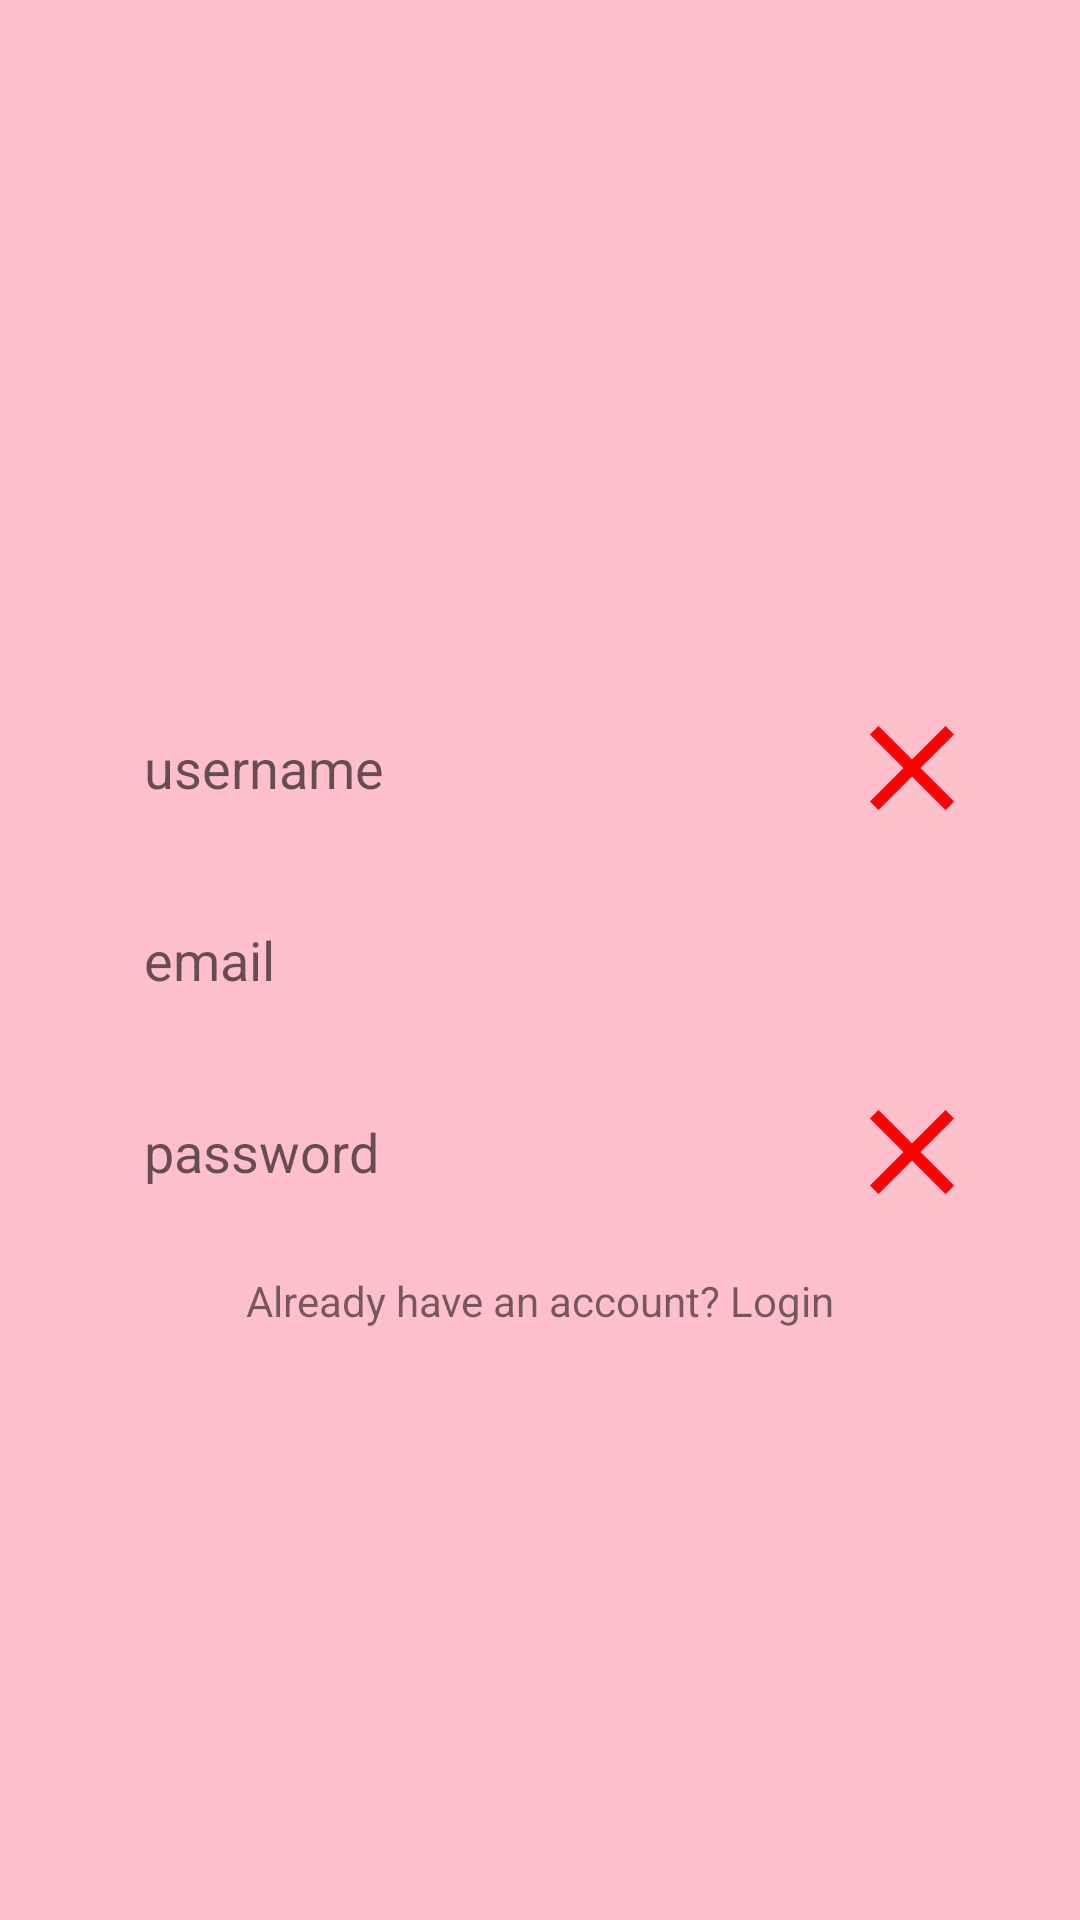

Icon click points for this 1080px x 1920px phone screenshot, format [x,y]:
cross: [912,768], [912,1152]
